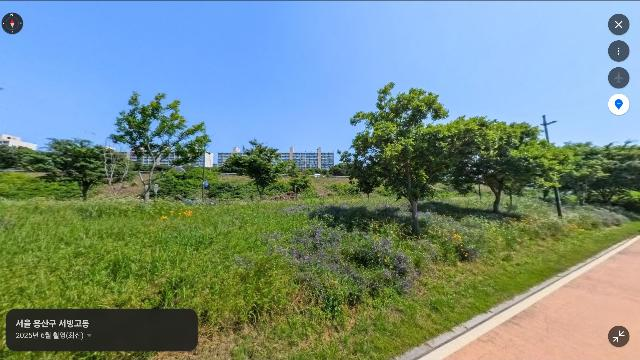other: (338, 81, 456, 236), (425, 115, 553, 215), (109, 90, 213, 203), (553, 140, 640, 218), (39, 137, 114, 201), (226, 137, 289, 201), (101, 144, 133, 199)
